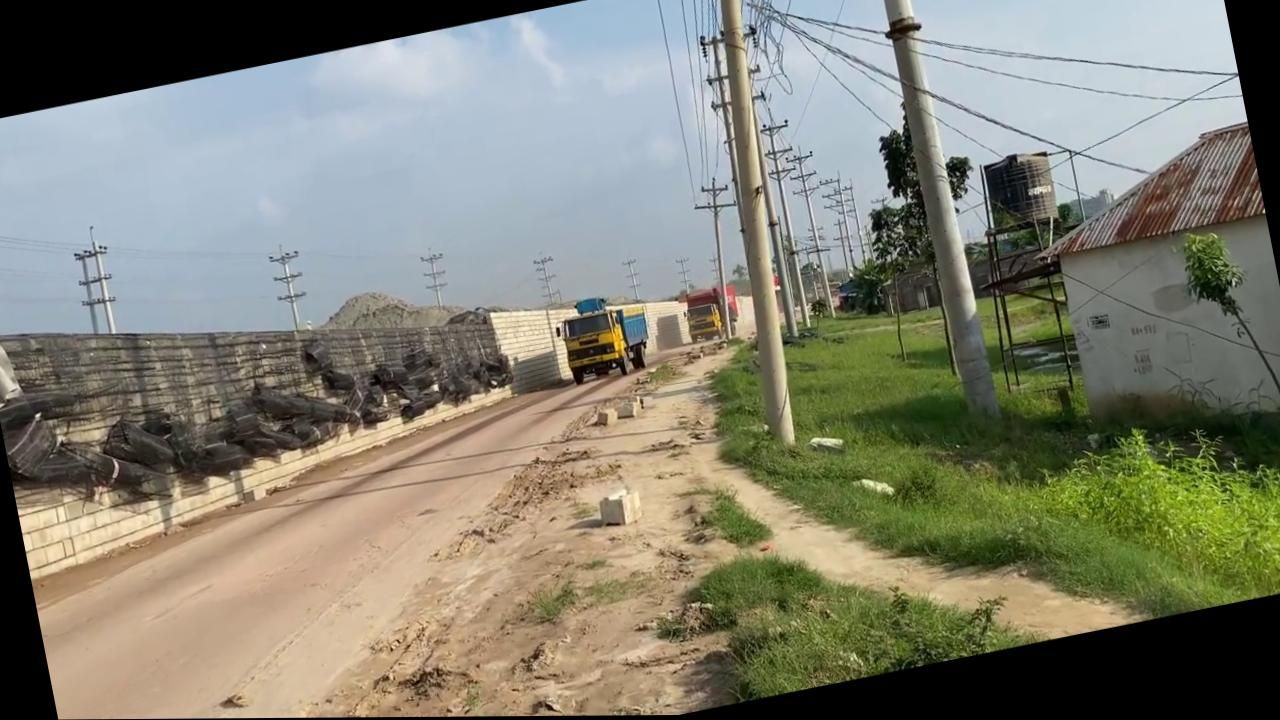Curb: (12, 380, 530, 580)
Garbage: (0, 296, 521, 517)
Muddy road: (11, 261, 1147, 720)
Obstacle: (594, 485, 644, 531)
Pole: (678, 0, 827, 452), (868, 0, 1002, 432)
Traffic-sign: (843, 91, 1011, 389)
Tree: (548, 288, 656, 388), (678, 281, 742, 346)
